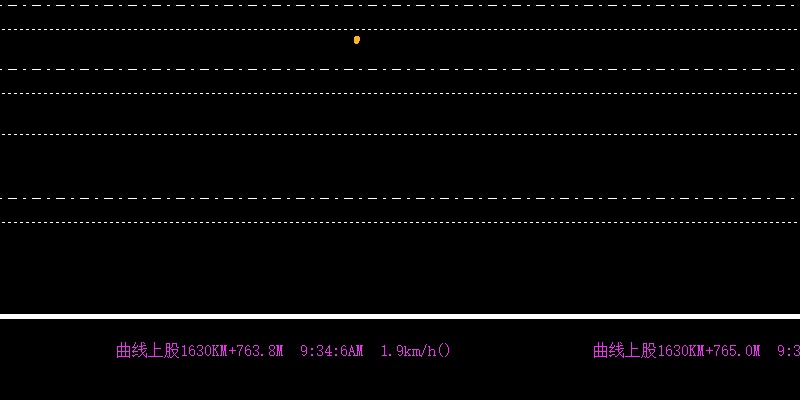face_down: (351, 24, 360, 45)
